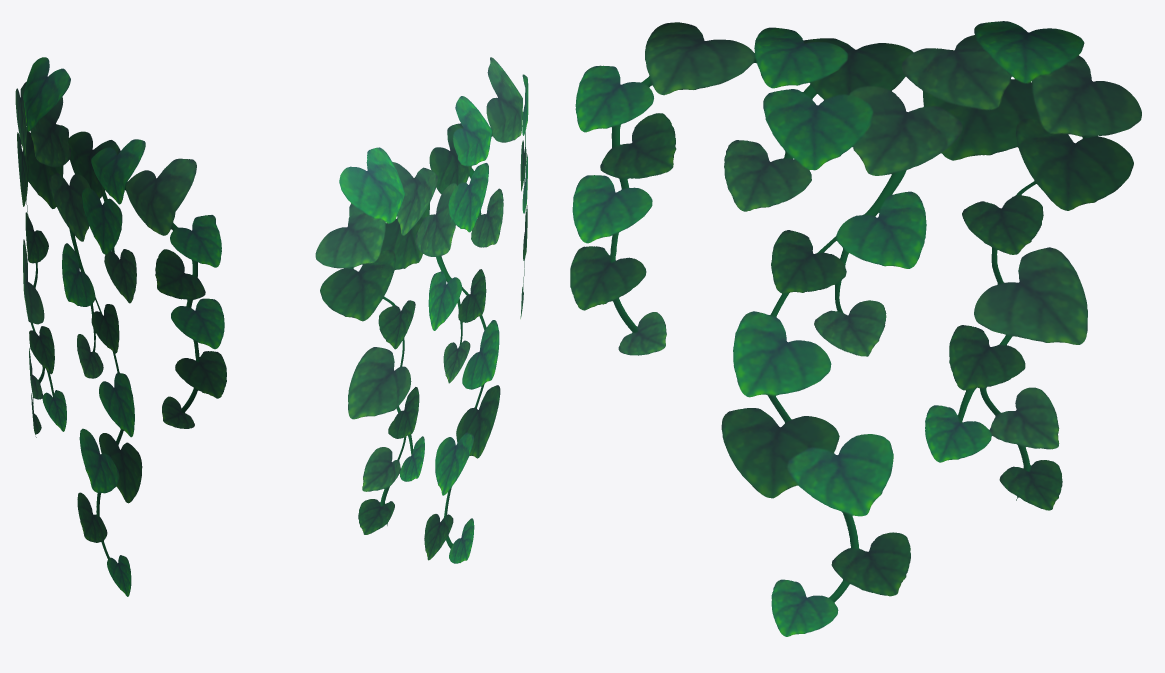
File: Asset_Vigne_A_01.fbx
3 views of the same model, side by side, from view 1: azimuth 30°, elevation 25°; view 2: azimuth 150°, elevation 25°; view 3: azimuth 270°, elevation 25° (orthographic). The views are drawn at different scales.
Parts seen in each view (by area): view 1: Asset_Vigne_A_01; view 2: Asset_Vigne_A_01; view 3: Asset_Vigne_A_01.
Part boxes in pixels (x1,y1,x2,y2): Asset_Vigne_A_01: [15, 57, 226, 596]; Asset_Vigne_A_01: [315, 57, 528, 563]; Asset_Vigne_A_01: [570, 21, 1141, 636].
Size of the model in its own units: 106 by 818 by 680.
